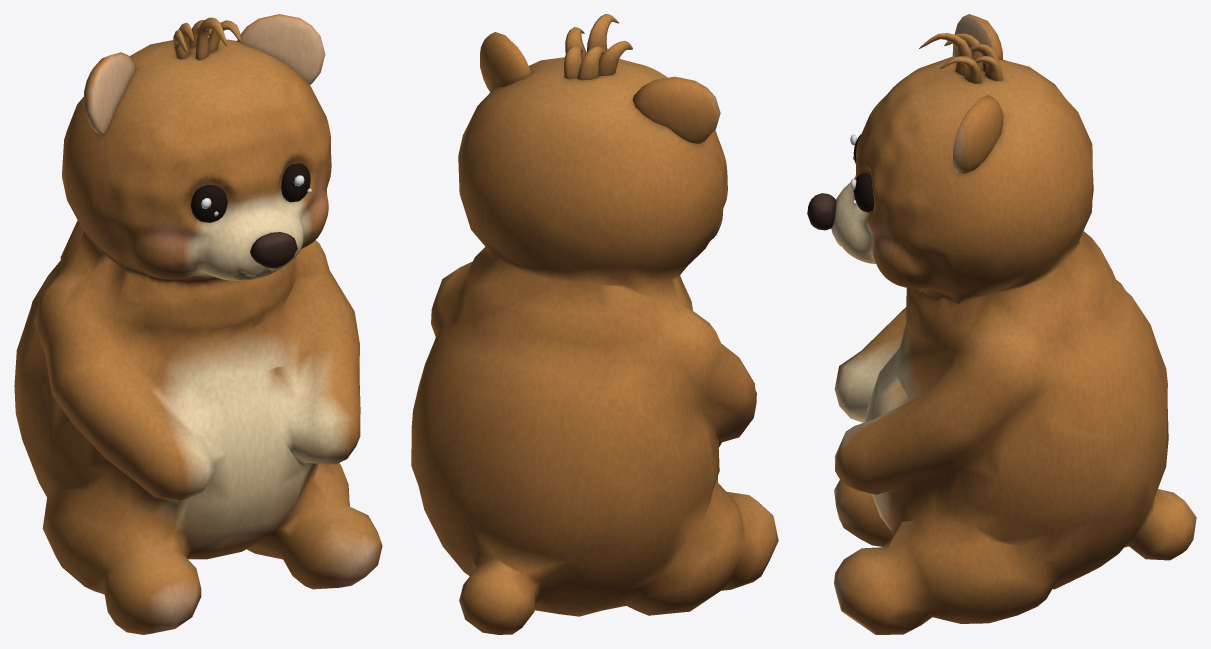
File: bearcub.fbx
The picture shows the model from 3 angles, left to right: view 1: azimuth 30°, elevation 25°; view 2: azimuth 150°, elevation 25°; view 3: azimuth 270°, elevation 25°; orthographic projection. The views are drawn at different scales.
Parts seen in each view (by area): view 1: BearCub_Body, BearCub_Eyes; view 2: BearCub_Body; view 3: BearCub_Body, BearCub_Eyes.
Part boxes in pixels (<box>): BearCub_Body: <box>14,14,382,634</box>; BearCub_Eyes: <box>190,163,310,222</box>; BearCub_Body: <box>411,14,778,634</box>; BearCub_Body: <box>807,14,1196,634</box>; BearCub_Eyes: <box>853,134,874,212</box>.
Size of the model in its own units: 1.56 by 2.85 by 1.81.
2 materials, 1 textured.
